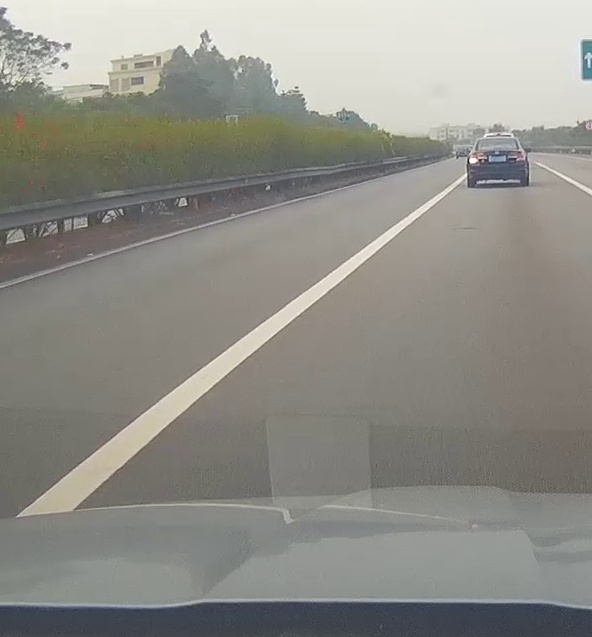L_light: (468, 154, 488, 163)
R_light: (508, 152, 525, 161)
T_light: (492, 138, 501, 141)
day-left: (466, 136, 529, 187)
